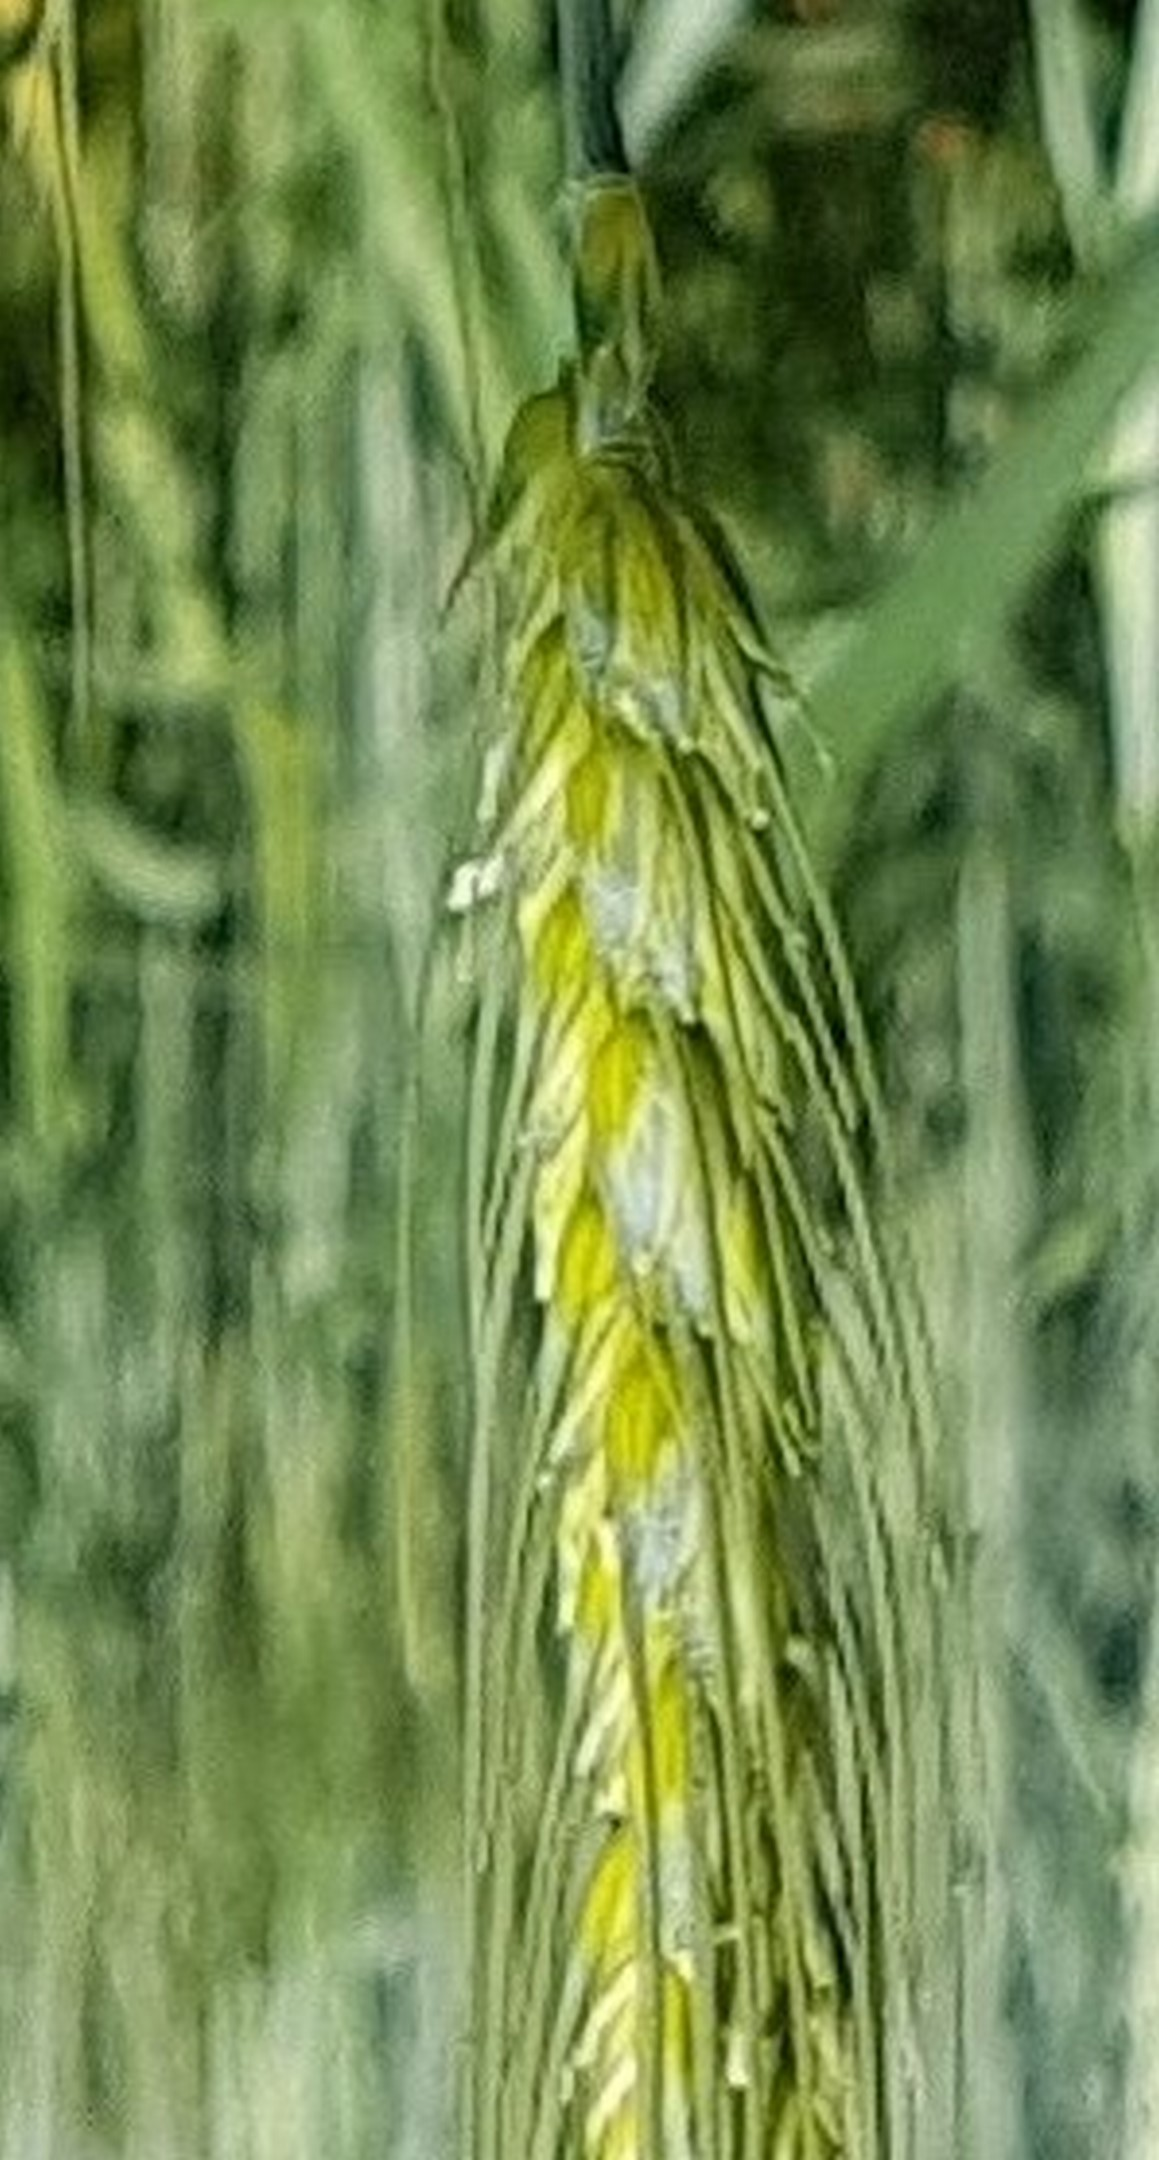Healthy Wheat: (402, 301, 975, 2160)
